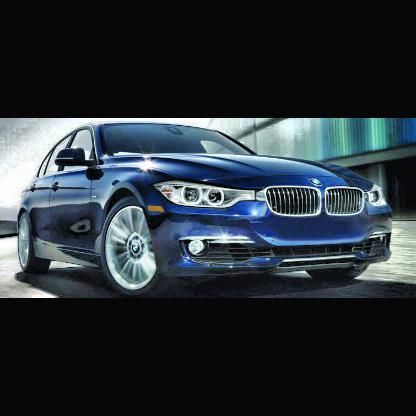BMW 3 Series Sedan 2012: (18, 123, 396, 295)
